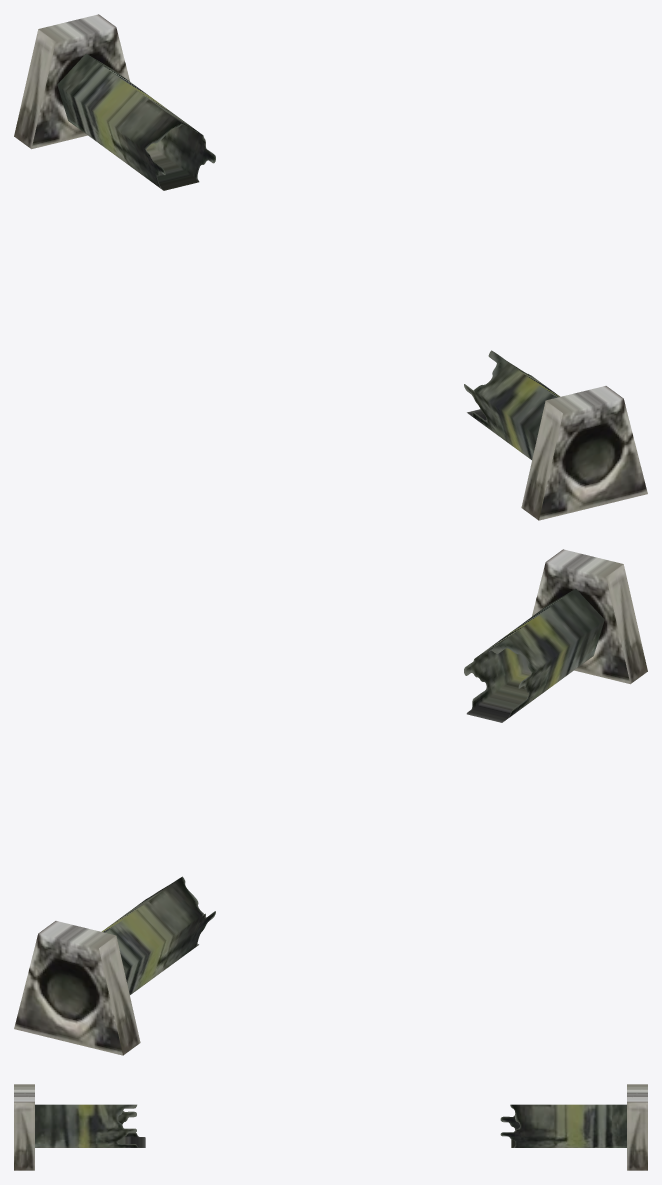
The model's file is straightpipe3_dam_hdtex.glb.
3 renders of one model, top to bottom at view 1: azimuth 30°, elevation 25°; view 2: azimuth 150°, elevation 25°; view 3: azimuth 270°, elevation 25°, orthographic. The views are drawn at different scales.
Visible parts, largest first — view 1: Object01; view 2: Object01; view 3: Object01.
Part boxes in pixels (left/top/right/bottom): Object01: left=14, top=14, right=647, bottom=520; Object01: left=14, top=549, right=647, bottom=1055; Object01: left=14, top=1084, right=647, bottom=1170.
Size of the model in its own units: 3.07 by 2.73 by 25.56.
Materials: 1 (1 with a texture image).
